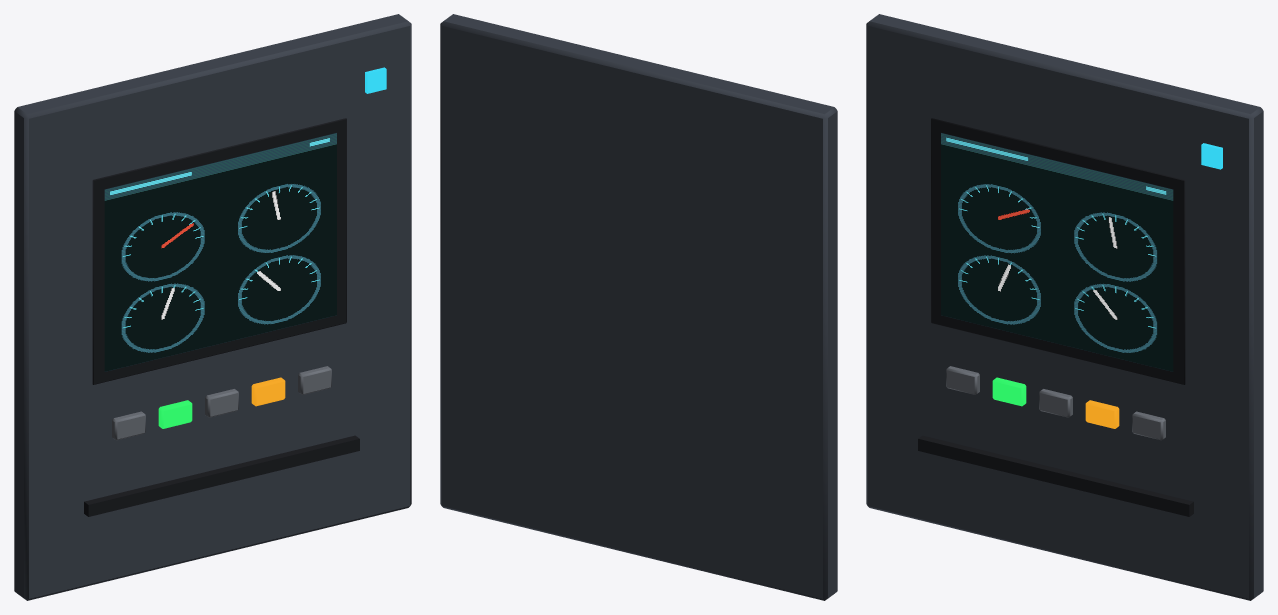
Rendered from wallpanel_screen_inset.glb.
The picture shows the model from 3 angles, left to right: view 1: azimuth 30°, elevation 25°; view 2: azimuth 150°, elevation 25°; view 3: azimuth 330°, elevation 25°; orthographic projection.
Parts seen in each view (by area): view 1: wallpanel_screen_inset; view 2: wallpanel_screen_inset; view 3: wallpanel_screen_inset.
Boxes of the visible parts, x1=… form: wallpanel_screen_inset: x1=14, y1=14, x2=411, y2=600; wallpanel_screen_inset: x1=440, y1=14, x2=837, y2=600; wallpanel_screen_inset: x1=866, y1=14, x2=1263, y2=600.
Size of the model in its own units: 1 by 1.2 by 0.08.
Materials: 7 (1 with a texture image).
